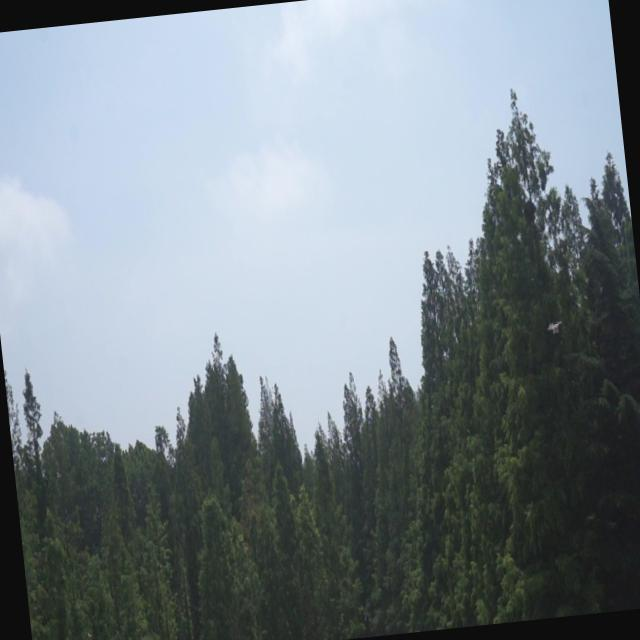drone: (544, 314, 566, 339)
